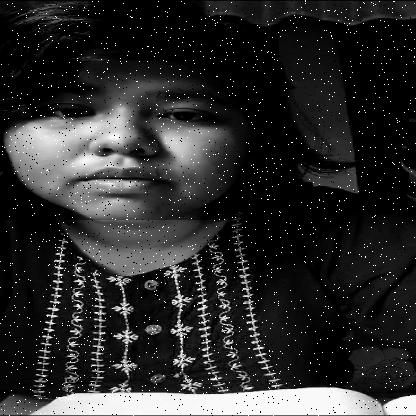Normal: (0, 24, 279, 220)
